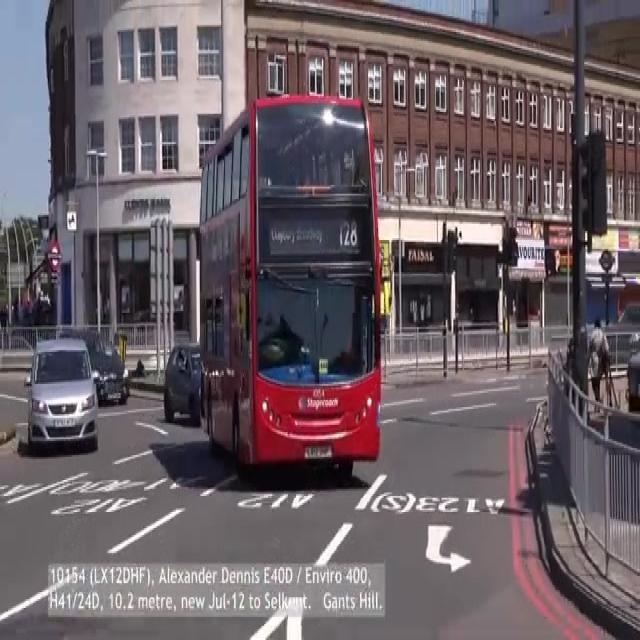Bus: (191, 91, 383, 473)
